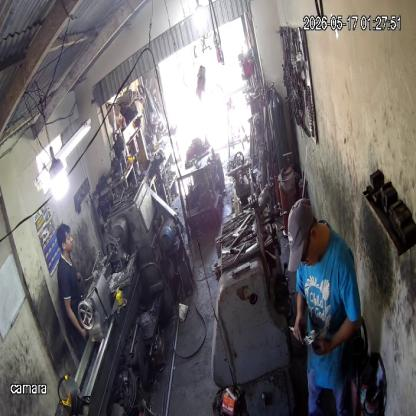lentes: (300, 246, 310, 263)
